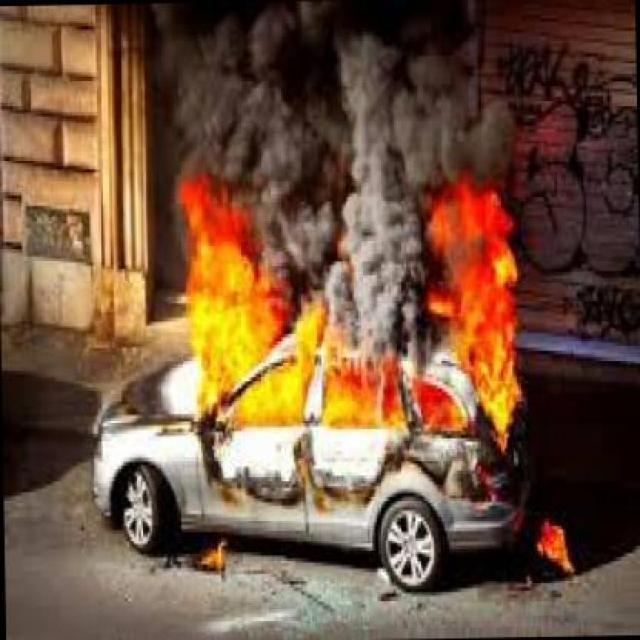Fire: (170, 180, 298, 428), (419, 180, 542, 434), (284, 309, 406, 433)
Smoke: (111, 6, 575, 175), (262, 162, 415, 310)
